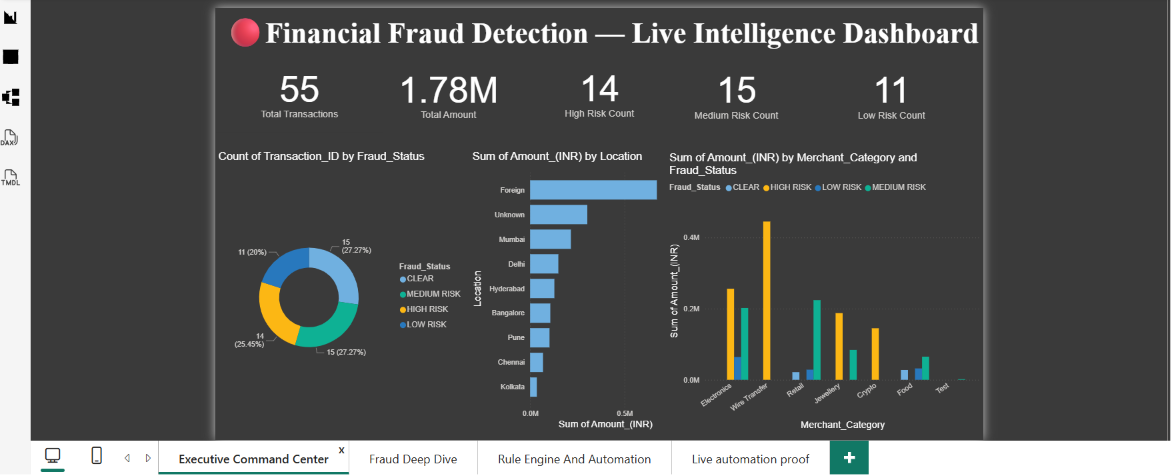

The dashboard page shown, as its layout file describes it:
{"tool":"powerbi","page":{"name":"Executive Command Center","canvas":[1280,720],"ordinal":0},"visuals":[{"type":"textbox","box":[9.4,0,1269.9,206],"z":0},{"type":"card","fields":{"Values":["Transaction_data.Total Transactions"]},"box":[0,71.7,280,135],"z":1000},{"type":"card","fields":{"Values":["Transaction_data.Medium Risk Count"]},"box":[708.3,90,320,101.7],"z":2000},{"type":"card","fields":{"Values":["Transaction_data.Total Amount"]},"box":[260,90,256.7,100],"z":3000},{"type":"card","fields":{"Values":["Transaction_data.Low Risk Count"]},"box":[990,90,273.3,101.7],"z":4000},{"type":"card","fields":{"Values":["Transaction_data.High Risk Count"]},"box":[511.7,86.7,256.7,103.3],"z":5000},{"type":"donutChart","fields":{"Category":["Transaction_data.Fraud_Status"],"Y":["CountNonNull(Transaction_data.Transaction_ID)"]},"box":[0,236.7,423.3,470],"z":6000},{"type":"clusteredBarChart","fields":{"Category":["Transaction_data.Location"],"Y":["Sum(Transaction_data.Amount_(INR))"]},"box":[423.3,236.7,371.7,470],"z":7000},{"type":"clusteredColumnChart","fields":{"Category":["Transaction_data.Merchant_Category"],"Y":["Sum(Transaction_data.Amount_(INR))"],"Series":["Transaction_data.Fraud_Status"]},"box":[751.7,238.3,528.3,470],"z":8000}]}

Visuals, with their boxes on the page's 1280x720 design canvas (x1, y1, x2, y2). These are canvas units, not pixel positions in the 1171x475 screenshot, which may show the page scaled, cropped or inside an application window:
textbox: <box>9,0,1279,206</box>
card - Transaction_data.Total Transactions: <box>0,72,280,207</box>
card - Transaction_data.Medium Risk Count: <box>708,90,1028,192</box>
card - Transaction_data.Total Amount: <box>260,90,517,190</box>
card - Transaction_data.Low Risk Count: <box>990,90,1263,192</box>
card - Transaction_data.High Risk Count: <box>512,87,768,190</box>
donutChart - Transaction_data.Fraud_Status x CountNonNull(Transaction_data.Transaction_ID): <box>0,237,423,707</box>
clusteredBarChart - Transaction_data.Location x Sum(Transaction_data.Amount_(INR)): <box>423,237,795,707</box>
clusteredColumnChart - Transaction_data.Merchant_Category x Sum(Transaction_data.Amount_(INR)): <box>752,238,1280,708</box>
